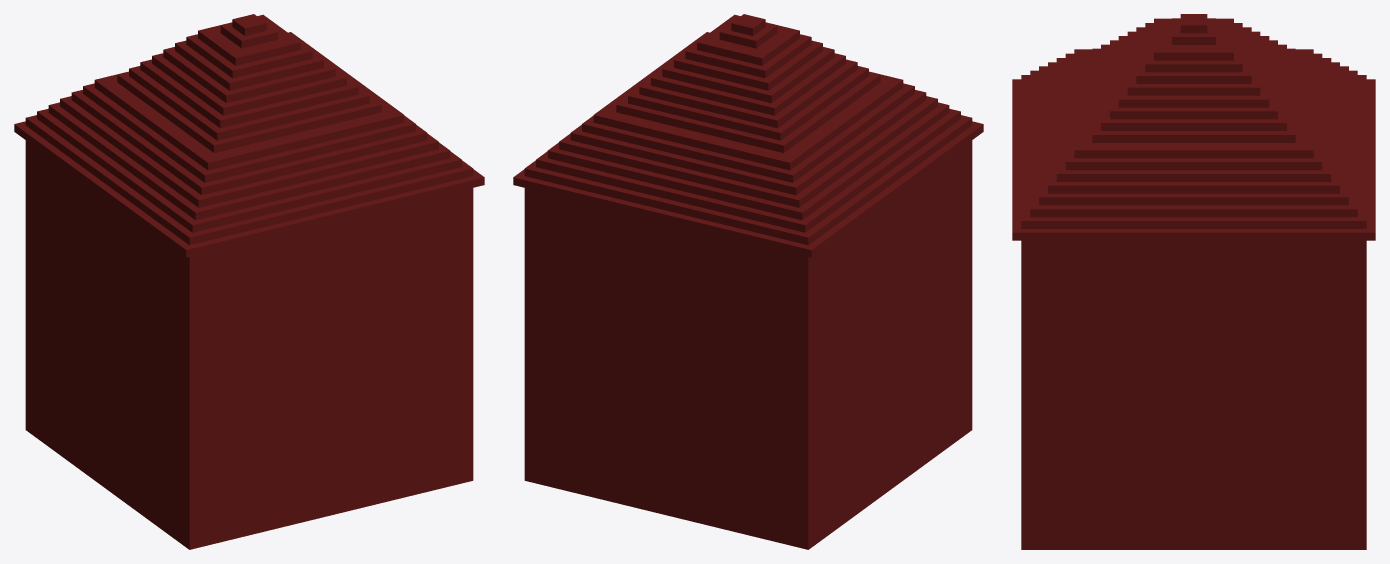
File: hotel2.gltf
3 views of the same model, side by side, from view 1: azimuth 30°, elevation 25°; view 2: azimuth 150°, elevation 25°; view 3: azimuth 270°, elevation 25° (orthographic). The views are drawn at different scales.
Visible parts, largest first — view 1: Cube.097; view 2: Cube.097; view 3: Cube.097.
Part boxes in pixels (<box>): Cube.097: <box>14,14,484,549</box>; Cube.097: <box>513,14,983,549</box>; Cube.097: <box>1012,14,1375,549</box>.
Size of the model in its own units: 0.1994 by 0.2772 by 0.1994.
